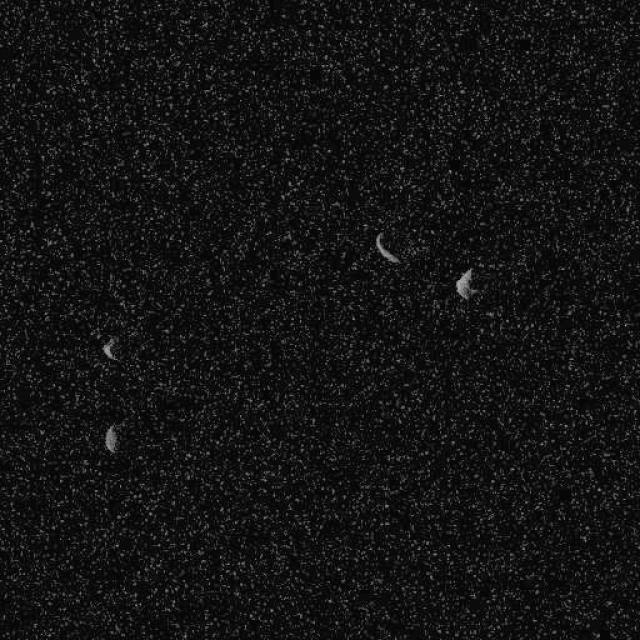D2: (374, 230, 400, 265), (454, 266, 476, 300), (100, 336, 118, 362), (104, 422, 118, 453)
